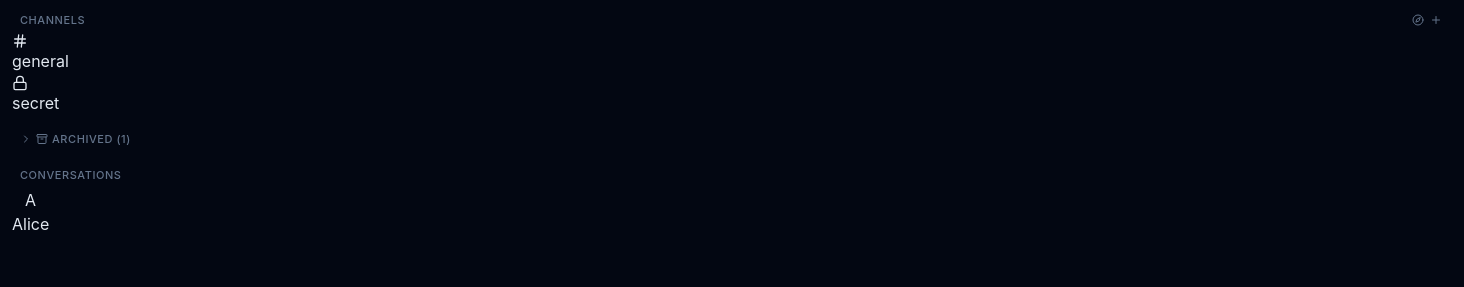
Test: ConversationList — channels sidebar › lists joined channels with a lock for private ones and hides archived ones in a collapsed group
Expected: the picture named "Private channel" is shown, [12,74,28,90]
Expected: the text "old-news" is not shown
Click the button "Archived (1)" at (87, 138), box [12,130,1452,151]
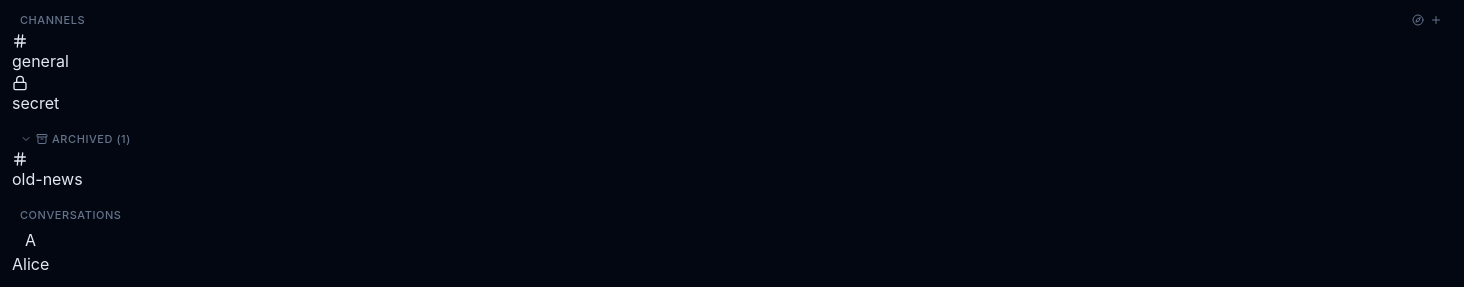
Result: the button "Archived (1)" is expanded at [12,130,1452,151]
Result: the text "old-news" is shown at [12,167,83,191]
